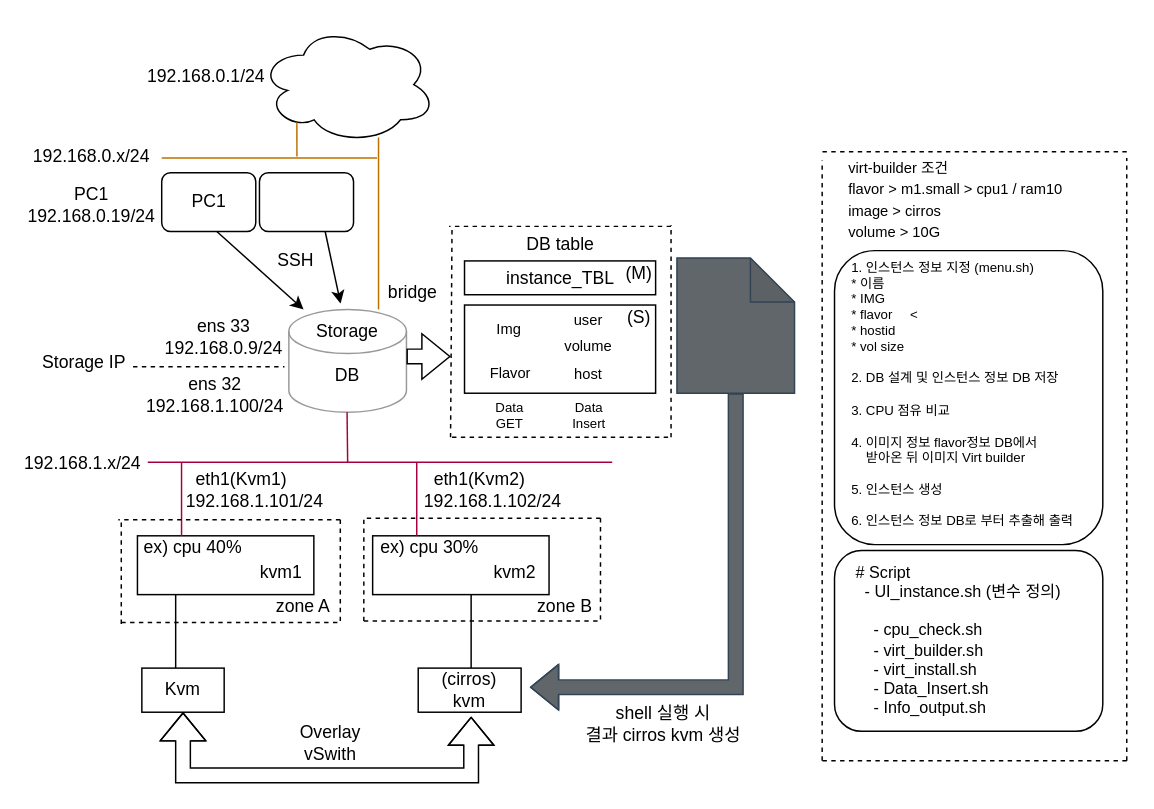
The diagram is 1154 pixels wide and 809 high, and some of its shapes have lost their labels. Here are the shapes that lost their labels. From the top down, the centre of each, then its label:
At (x=347, y=83): "외부인터넷 iptime".
At (x=306, y=201): "PC2".
At (x=735, y=325): "Shell Script".
